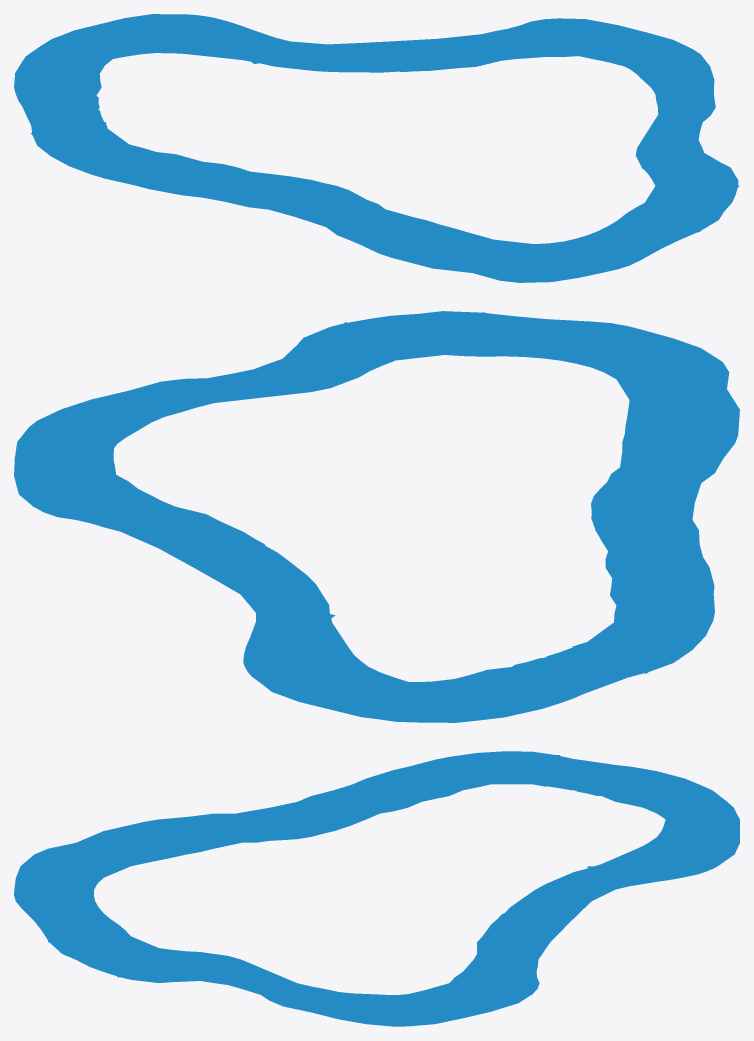
The model's file is BigWater1.fbx.
The picture shows the model from 3 angles, top to bottom: view 1: azimuth 30°, elevation 25°; view 2: azimuth 150°, elevation 25°; view 3: azimuth 270°, elevation 25°; orthographic projection. The views are drawn at different scales.
Parts seen in each view (by area): view 1: WATER02; view 2: WATER02; view 3: WATER02.
Boxes of the visible parts, x1,y1,x2,y2 form: WATER02: [14, 14, 739, 282]; WATER02: [14, 311, 739, 722]; WATER02: [14, 751, 739, 1026].
Size of the model in its own units: 2293 by 0.000416 by 2554.
